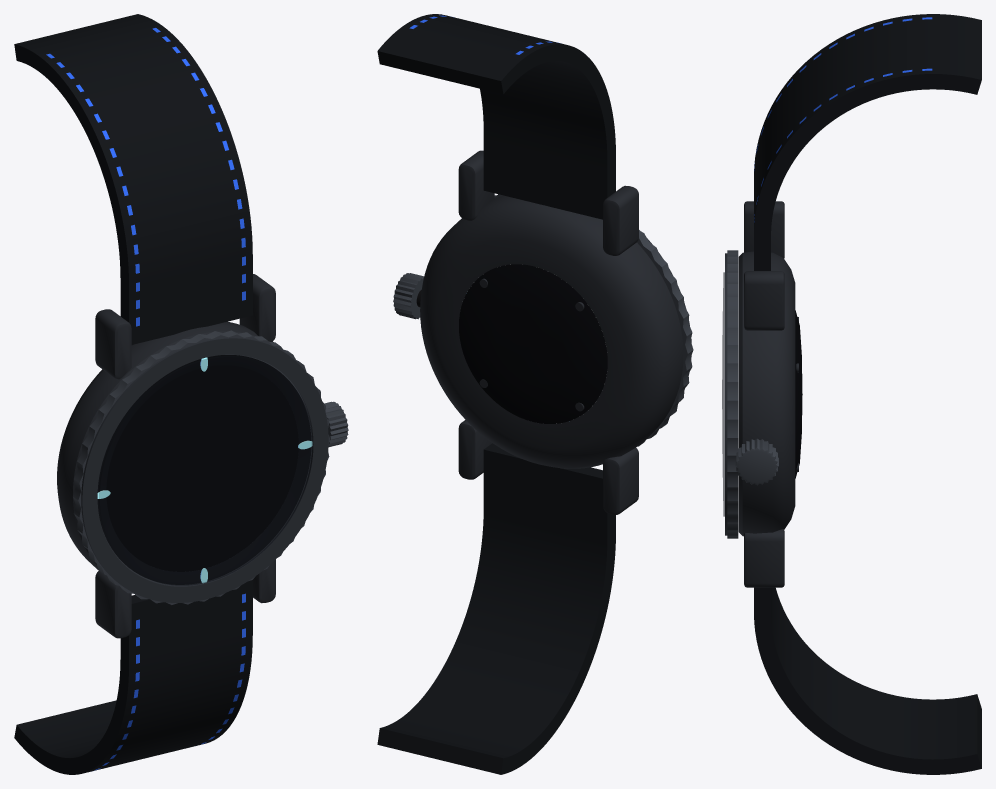
Rendered from fyrosmium.glb.
3 views of the same model, side by side, from view 1: azimuth 30°, elevation 25°; view 2: azimuth 150°, elevation 25°; view 3: azimuth 270°, elevation 25° (orthographic).
Parts seen in each view (by area): view 1: Strap, Glass, Screen, Bezel, Case, Rehaut, Crown; view 2: Strap, Case, Caseback, Bezel, Crown; view 3: Strap, Case, Bezel, Crown, Caseback, Glass.
Boxes of the visible parts, x1,y1,x2,y2 form: Strap: (14, 14, 252, 774); Glass: (99, 356, 312, 585); Screen: (106, 365, 298, 571); Bezel: (73, 330, 330, 604); Case: (57, 274, 298, 638); Rehaut: (97, 355, 311, 584); Crown: (324, 401, 348, 446); Strap: (377, 14, 615, 774); Case: (420, 150, 683, 514); Caseback: (459, 264, 607, 423); Bezel: (494, 194, 693, 446); Crown: (393, 273, 424, 319); Strap: (754, 14, 981, 774); Case: (738, 201, 795, 587); Bezel: (725, 250, 738, 538); Crown: (735, 438, 778, 485); Caseback: (795, 310, 802, 478); Glass: (722, 272, 724, 516).
Size of the model in its own units: 0.0481 by 0.1178 by 0.0396.
